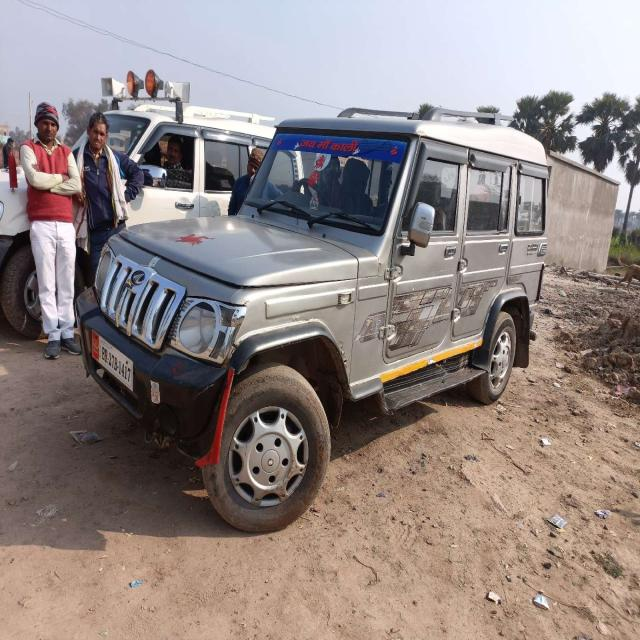light_vehicle: (75, 124, 550, 441)
